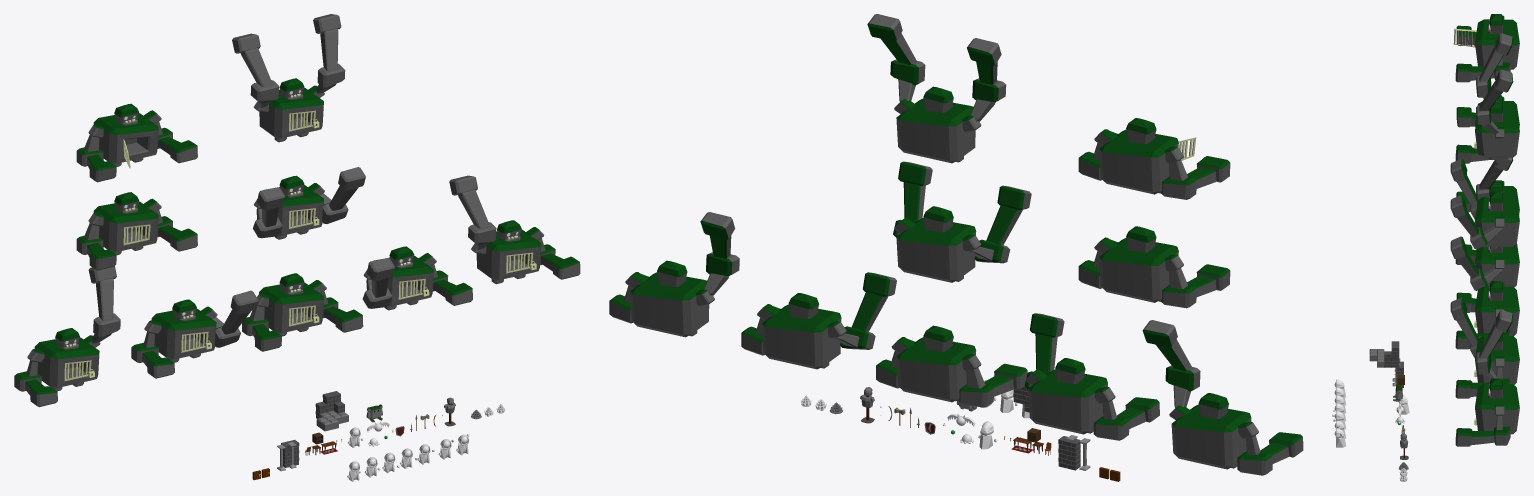
Rendered from FullGoofy.fbx.
3 views of the same model, side by side, from view 1: azimuth 30°, elevation 25°; view 2: azimuth 150°, elevation 25°; view 3: azimuth 270°, elevation 25° (orthographic). The views are drawn at different scales.
Visible parts, largest first — view 1: Sphere.078, Sphere.045, Sphere.033, Sphere.079, Sphere.044, Sphere.022, Sphere.072, Sphere.080, Sphere.003, Sphere.061, Sphere.070, Sphere.052 (+2 smaller); view 2: Sphere.078, Sphere.022, Sphere.072, Sphere.003, Sphere.061, Sphere.045, Sphere.033, Sphere.044, Sphere.079, Sphere.080, Sphere.059, Sphere.011 (+8 smaller); view 3: Sphere.022, Sphere.072, Sphere.061, Sphere.044, Sphere.080, Sphere.033, Sphere.003, Sphere.079, Sphere.078, Sphere.015, Sphere.074, Sphere.059 (+24 smaller).
Part boxes in pixels (x1=…): Sphere.078: x1=76, y1=192, x2=197, y2=270; Sphere.045: x1=34, y1=328, x2=99, y2=391; Sphere.033: x1=151, y1=299, x2=216, y2=362; Sphere.079: x1=76, y1=103, x2=197, y2=182; Sphere.044: x1=259, y1=273, x2=323, y2=336; Sphere.022: x1=476, y1=220, x2=541, y2=284; Sphere.072: x1=259, y1=78, x2=323, y2=142; Sphere.080: x1=93, y1=113, x2=158, y2=164; Sphere.003: x1=374, y1=246, x2=433, y2=310; Sphere.061: x1=263, y1=175, x2=323, y2=239; Sphere.070: x1=320, y1=28, x2=338, y2=71; Sphere.052: x1=96, y1=278, x2=113, y2=320; Sphere.078: x1=1078, y1=226, x2=1230, y2=308; Sphere.022: x1=630, y1=260, x2=709, y2=337; Sphere.072: x1=896, y1=86, x2=975, y2=163; Sphere.003: x1=761, y1=293, x2=841, y2=369; Sphere.061: x1=896, y1=206, x2=976, y2=282; Sphere.045: x1=1171, y1=393, x2=1251, y2=469; Sphere.033: x1=1028, y1=358, x2=1107, y2=434; Sphere.044: x1=896, y1=325, x2=976, y2=402; Sphere.079: x1=1078, y1=118, x2=1230, y2=199; Sphere.080: x1=1099, y1=129, x2=1178, y2=194; Sphere.059: x1=986, y1=205, x2=1022, y2=244; Sphere.011: x1=852, y1=292, x2=887, y2=331; Sphere.022: x1=1474, y1=378, x2=1519, y2=434; Sphere.072: x1=1474, y1=101, x2=1519, y2=159; Sphere.061: x1=1475, y1=191, x2=1519, y2=249; Sphere.044: x1=1474, y1=281, x2=1519, y2=336; Sphere.080: x1=1475, y1=19, x2=1519, y2=69; Sphere.033: x1=1475, y1=244, x2=1519, y2=287; Sphere.003: x1=1474, y1=334, x2=1519, y2=384; Sphere.079: x1=1455, y1=14, x2=1510, y2=82; Sphere.078: x1=1455, y1=95, x2=1519, y2=163; Sphere.015: x1=1479, y1=322, x2=1503, y2=358; Sphere.074: x1=1479, y1=45, x2=1503, y2=81; Sphere.059: x1=1457, y1=175, x2=1478, y2=207.
Bounding box in the file's own units: 15450 × 10563 × 5034.
